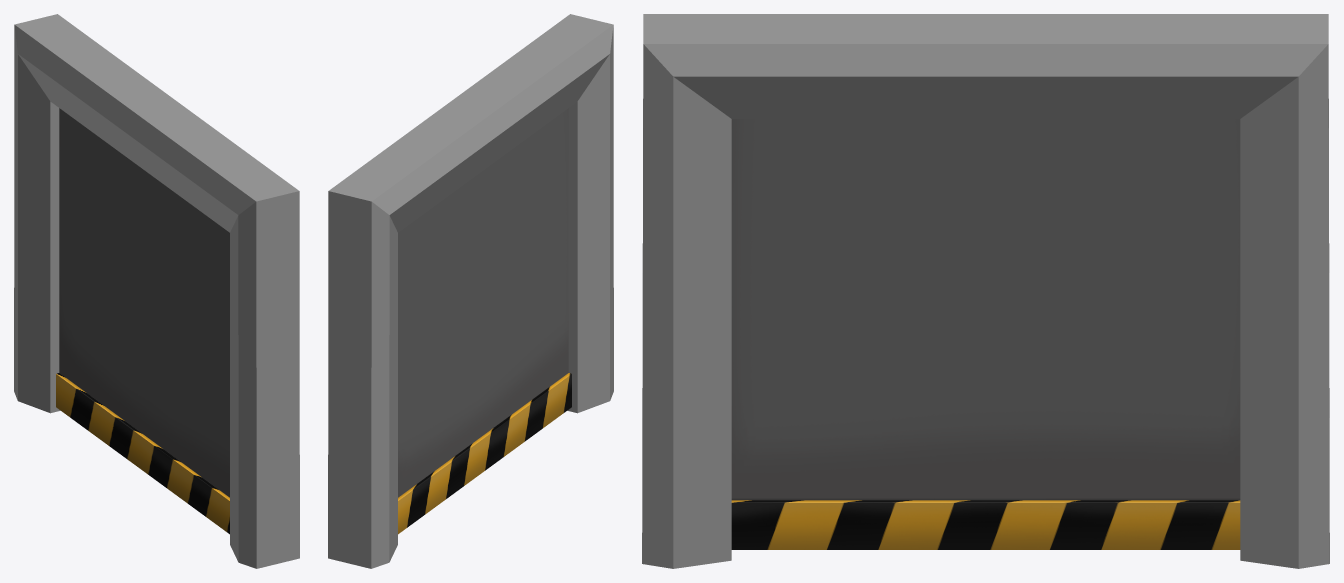
File: Wide_Door.fbx
The picture shows the model from 3 angles, left to right: view 1: azimuth 30°, elevation 25°; view 2: azimuth 150°, elevation 25°; view 3: azimuth 270°, elevation 25°; orthographic projection. The views are drawn at different scales.
Visible parts, largest first — view 1: polySurface1, polySurface2; view 2: polySurface1, polySurface2; view 3: polySurface2, polySurface1.
Boxes of the visible parts, box(x1,y1,x2,y2) form: polySurface1: box(14, 14, 299, 568); polySurface2: box(56, 108, 229, 534); polySurface1: box(328, 14, 613, 568); polySurface2: box(398, 108, 571, 534); polySurface2: box(731, 119, 1240, 549); polySurface1: box(642, 14, 1329, 568).
Size of the model in its own units: 3.84 by 23.38 by 28.01.
Materials: 1 (1 with a texture image).
